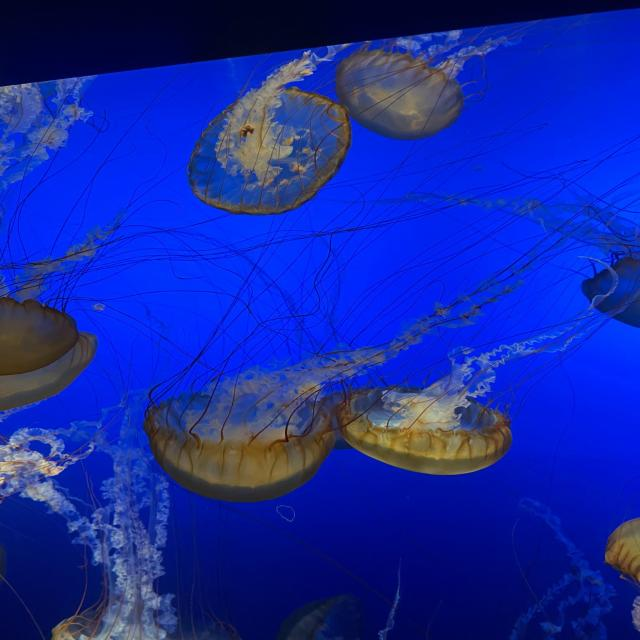jellyfish: (188, 74, 350, 210), (153, 394, 336, 501), (328, 384, 516, 482), (341, 52, 460, 140), (0, 294, 91, 405), (49, 596, 192, 640), (579, 250, 640, 332), (593, 508, 640, 580)
